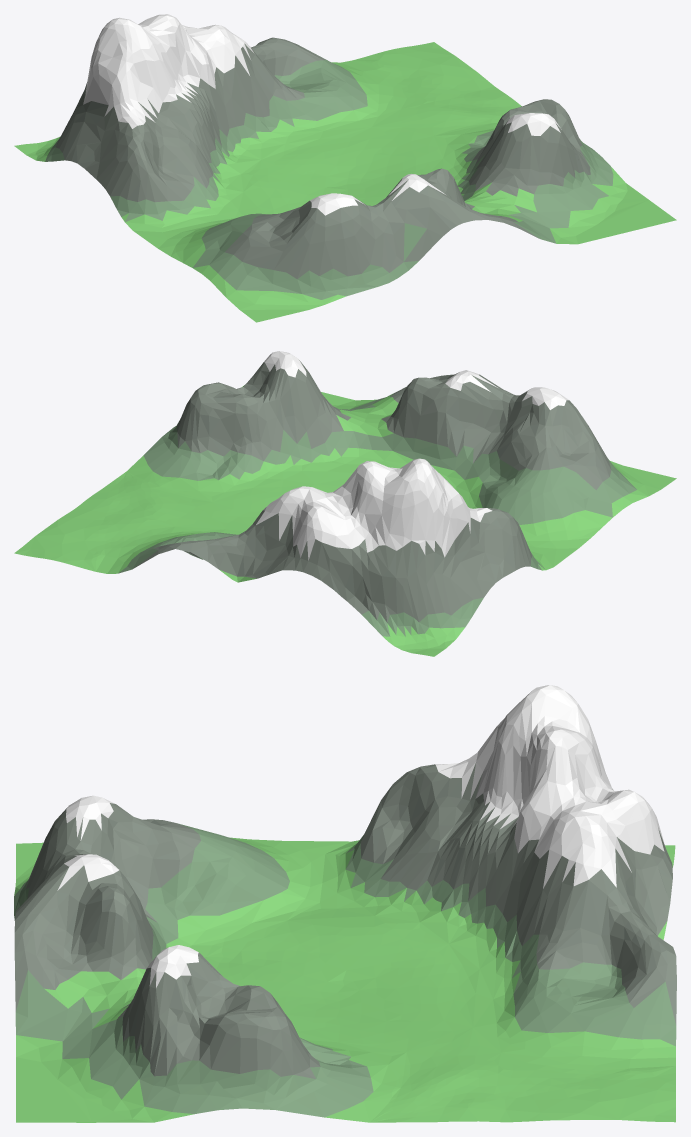
The model's file is map.fbx.
The picture shows the model from 3 angles, top to bottom: view 1: azimuth 30°, elevation 25°; view 2: azimuth 150°, elevation 25°; view 3: azimuth 270°, elevation 25°; orthographic projection. The views are drawn at different scales.
Visible parts, largest first — view 1: Grid; view 2: Grid; view 3: Grid.
Boxes of the visible parts, x1,y1,x2,y2 form: Grid: (14, 14, 676, 322); Grid: (14, 351, 676, 656); Grid: (14, 685, 676, 1122).
Size of the model in its own units: 100 by 33.82 by 100.
